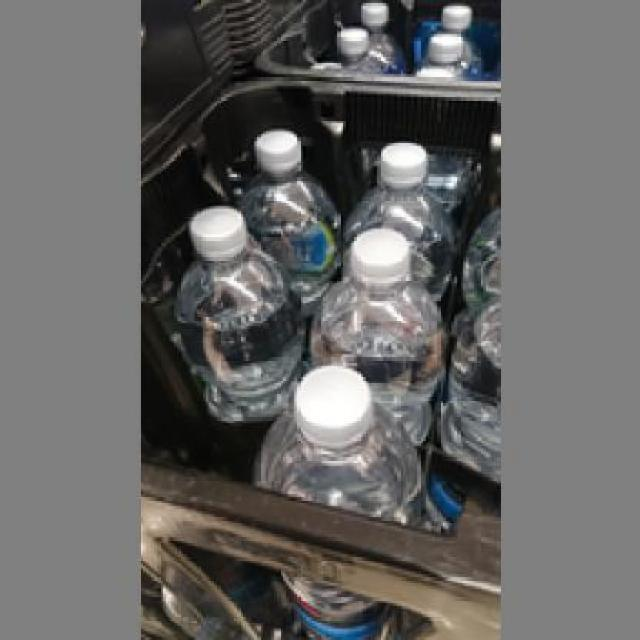Water: (245, 363, 418, 617), (305, 226, 438, 443), (174, 196, 297, 410), (337, 132, 454, 288), (239, 120, 332, 294)
